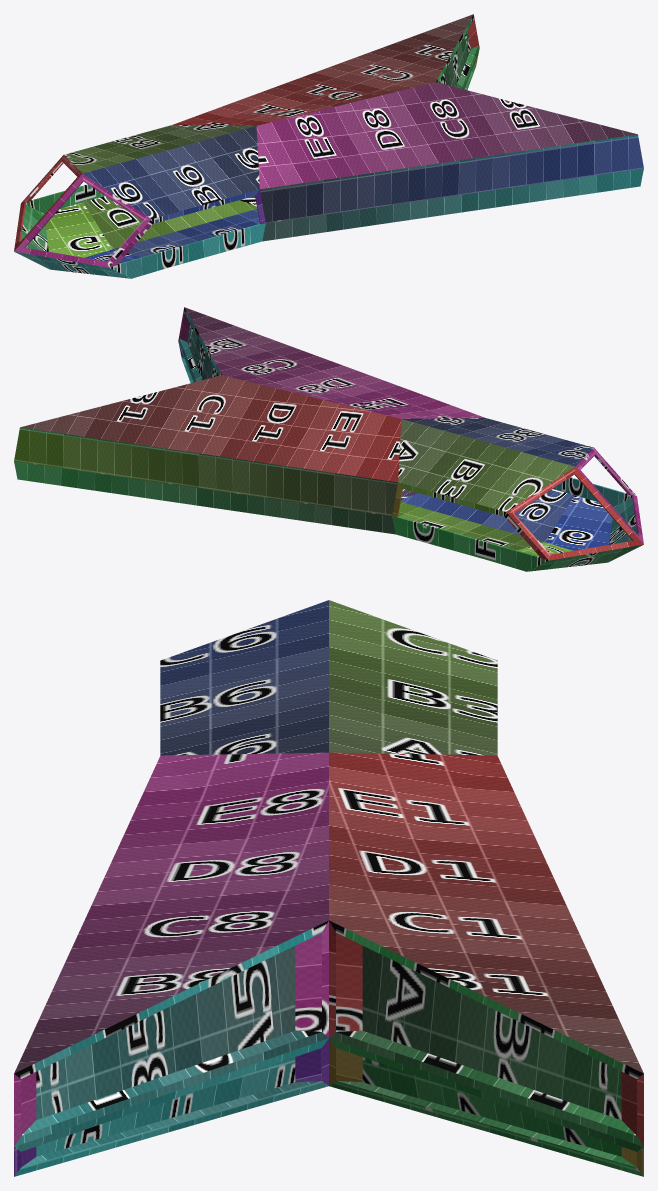
The model's file is ship.obj.
The picture shows the model from 3 angles, top to bottom: view 1: azimuth 30°, elevation 25°; view 2: azimuth 150°, elevation 25°; view 3: azimuth 270°, elevation 25°; orthographic projection. The views are drawn at different scales.
Parts seen in each view (by area): view 1: Ship_Cube; view 2: Ship_Cube; view 3: Ship_Cube.
Boxes of the visible parts, bbox=[...] form: Ship_Cube: bbox=[14, 14, 643, 278]; Ship_Cube: bbox=[14, 307, 643, 571]; Ship_Cube: bbox=[14, 600, 643, 1176].
Bounding box in the file's own units: 35.99 × 5.86 × 18.69.
1 material, 1 textured.
